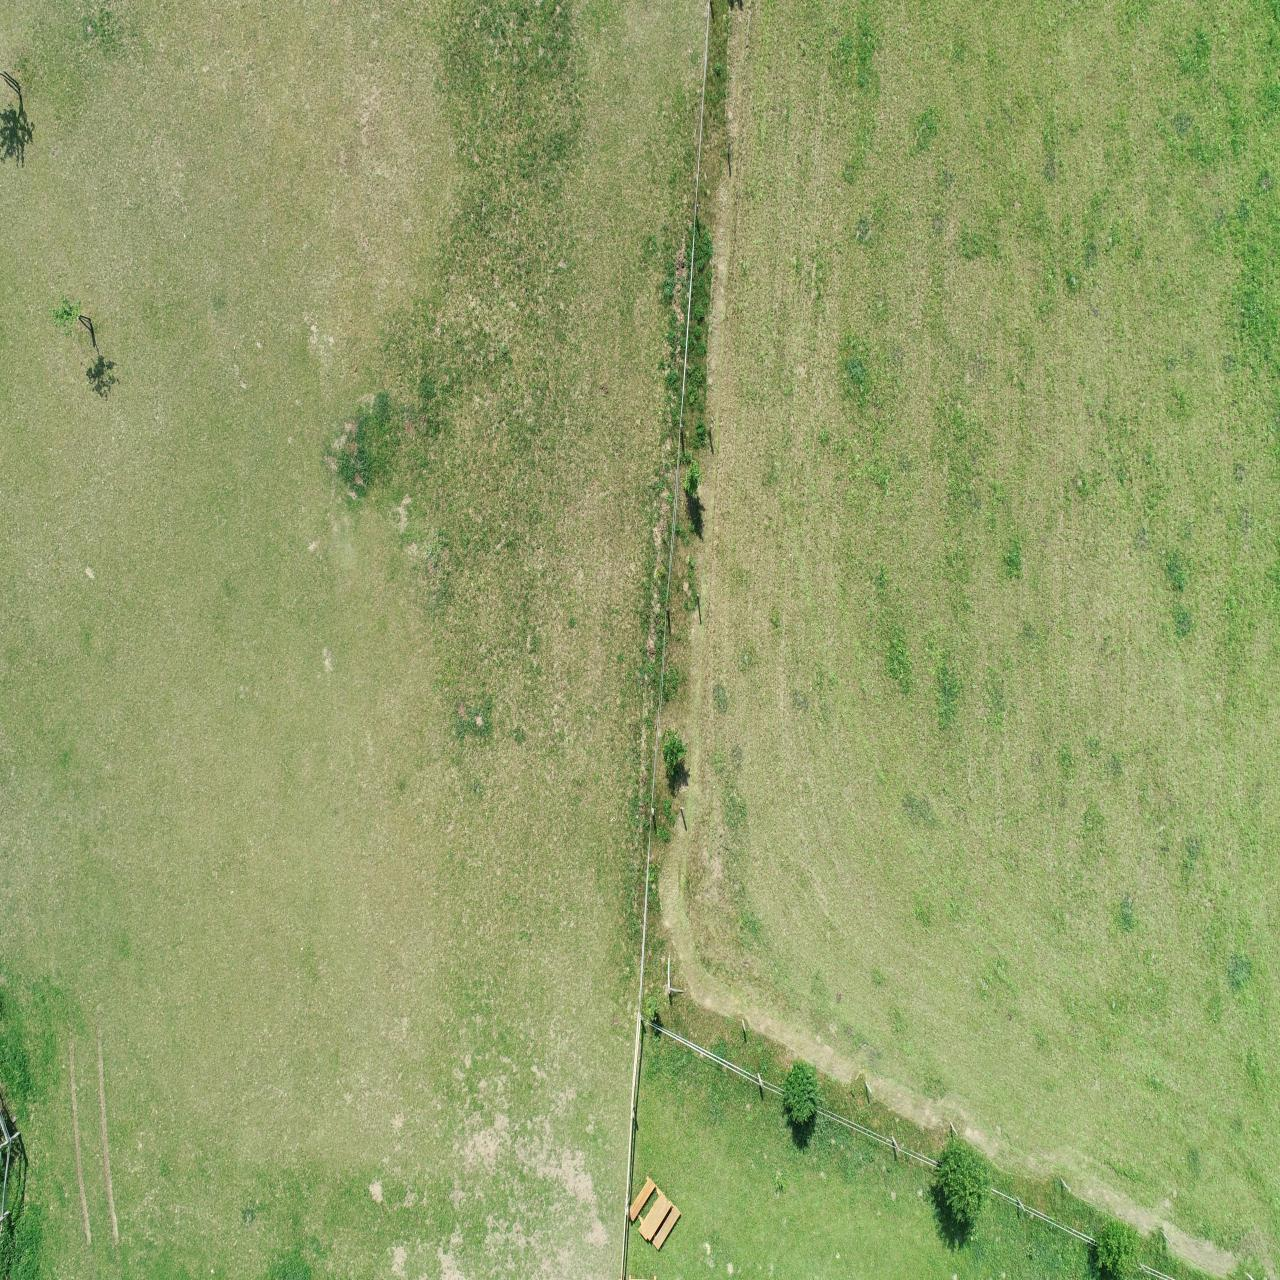cow: (27, 444, 59, 497)
